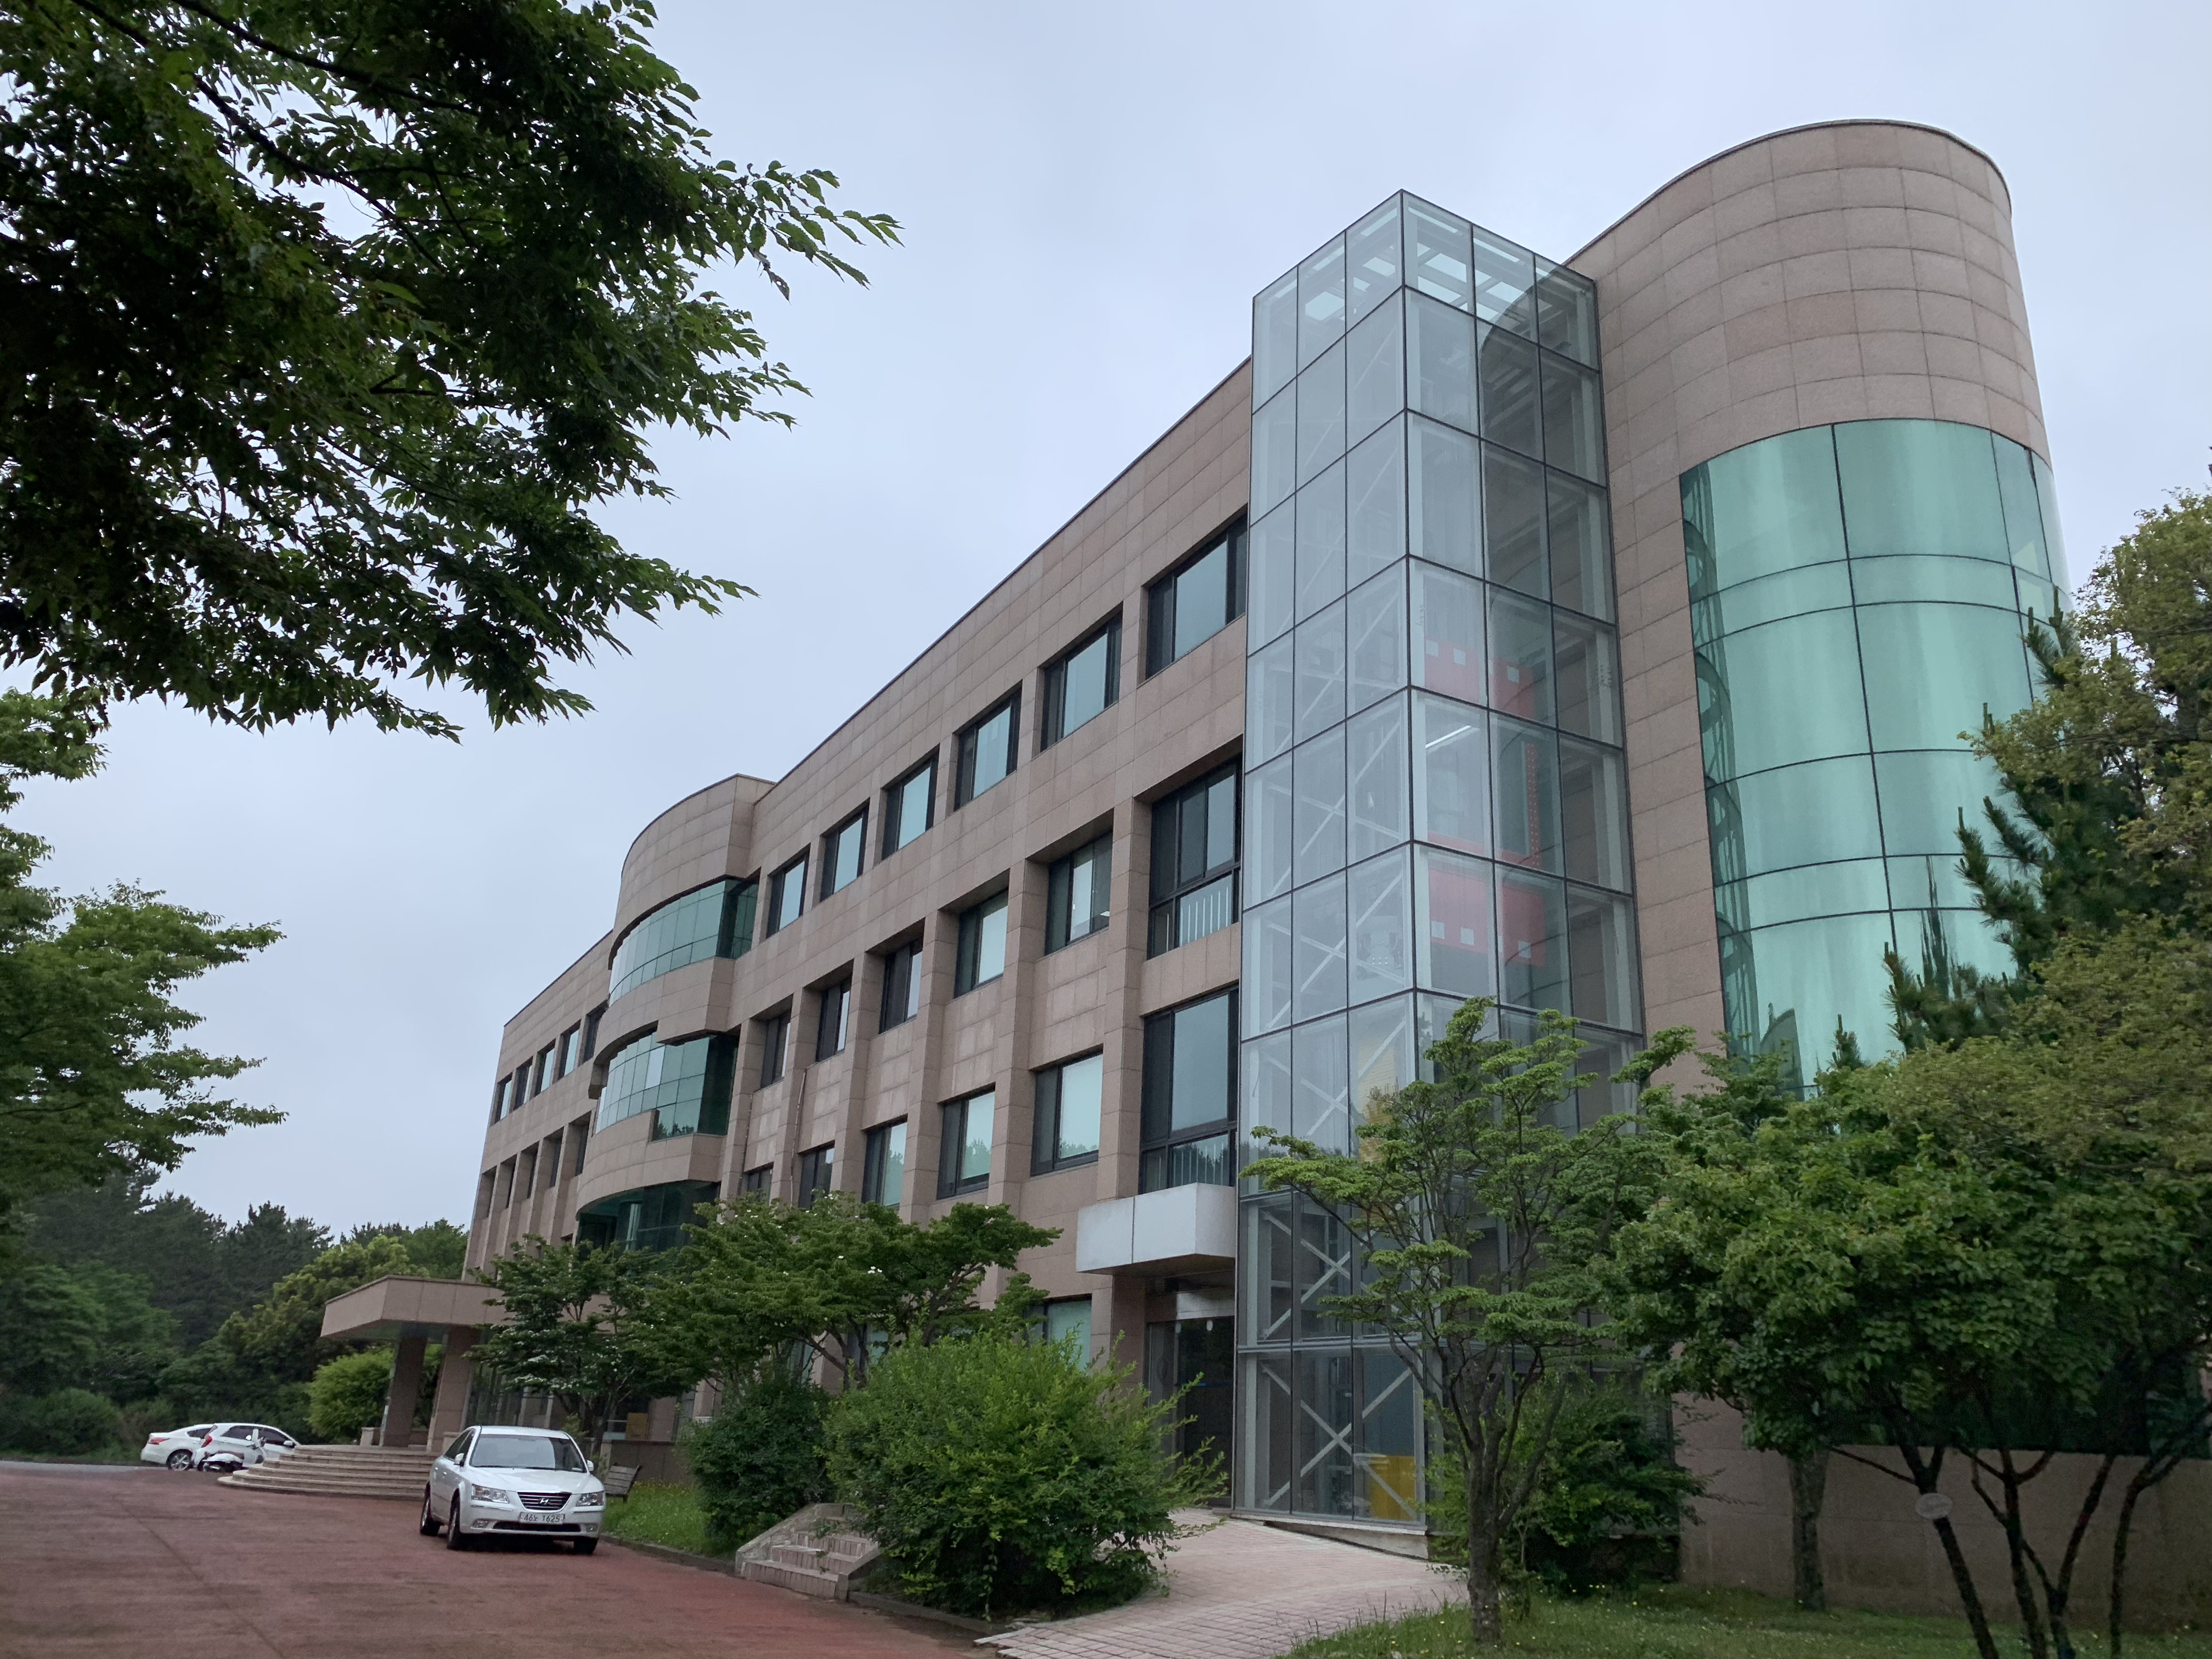Joint Experimental Labs: (880, 132, 2095, 1575), (484, 904, 2107, 1598)
